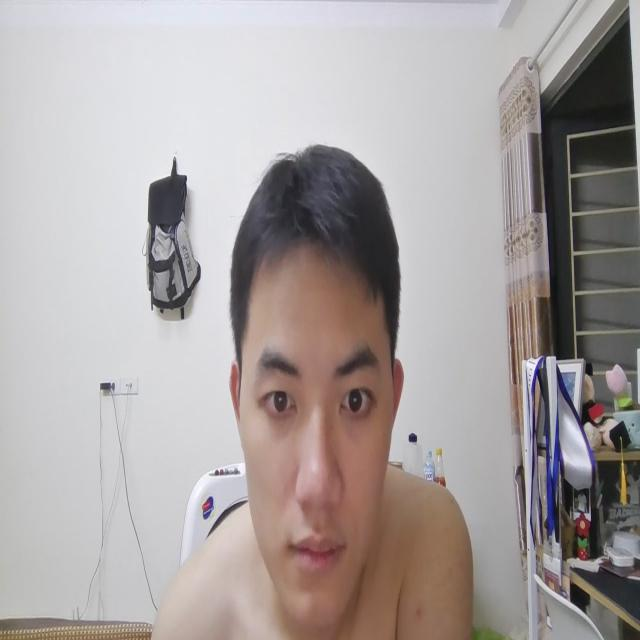student: (218, 127, 408, 634)
